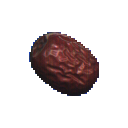gd: (19, 26, 122, 119)
